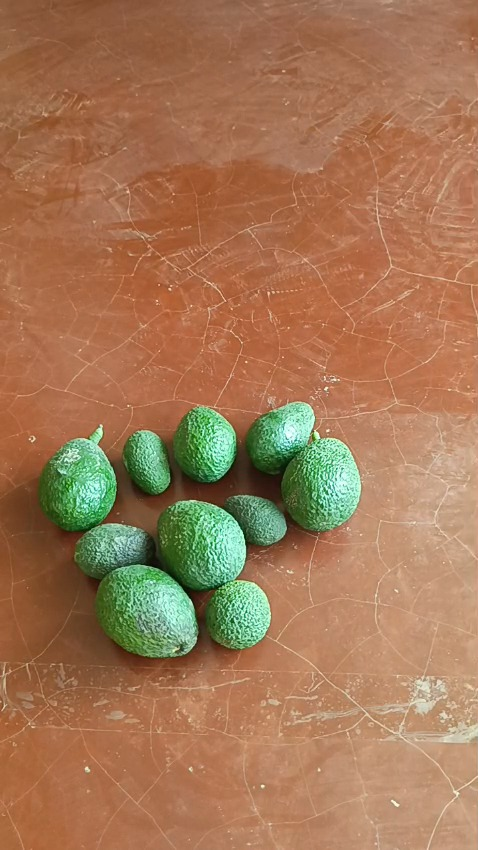Primera: (94, 564, 200, 656), (156, 499, 246, 589), (282, 438, 361, 531), (39, 438, 117, 531)
Segunda: (245, 400, 315, 474), (172, 405, 238, 482)
Tercera: (71, 521, 153, 580), (205, 580, 271, 649), (122, 428, 172, 494), (224, 494, 287, 546)
